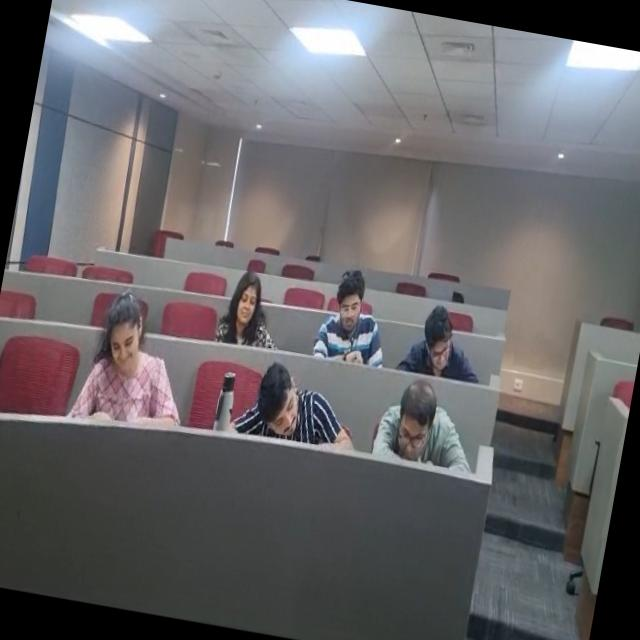cheating: (80, 278, 175, 402), (304, 257, 399, 375)
non-cheating: (225, 362, 332, 462), (360, 372, 455, 475), (196, 256, 278, 356), (400, 296, 470, 382)
